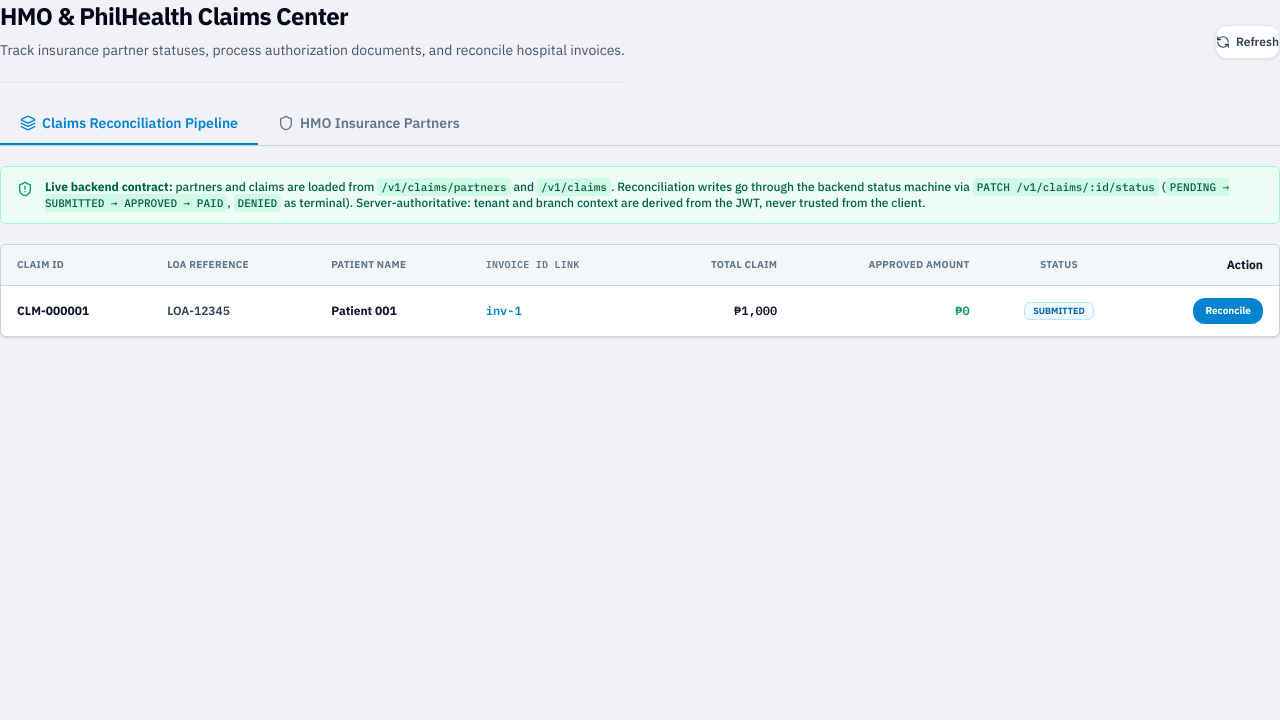
it: ClaimsDashboard — real /v1/claims/* contract (post-route-fix) › surfaces backend rejection errors inline (no window.alert on save failure)
Click the button "Reconcile".
click(1228, 311)  # box [1193,298,1263,324]
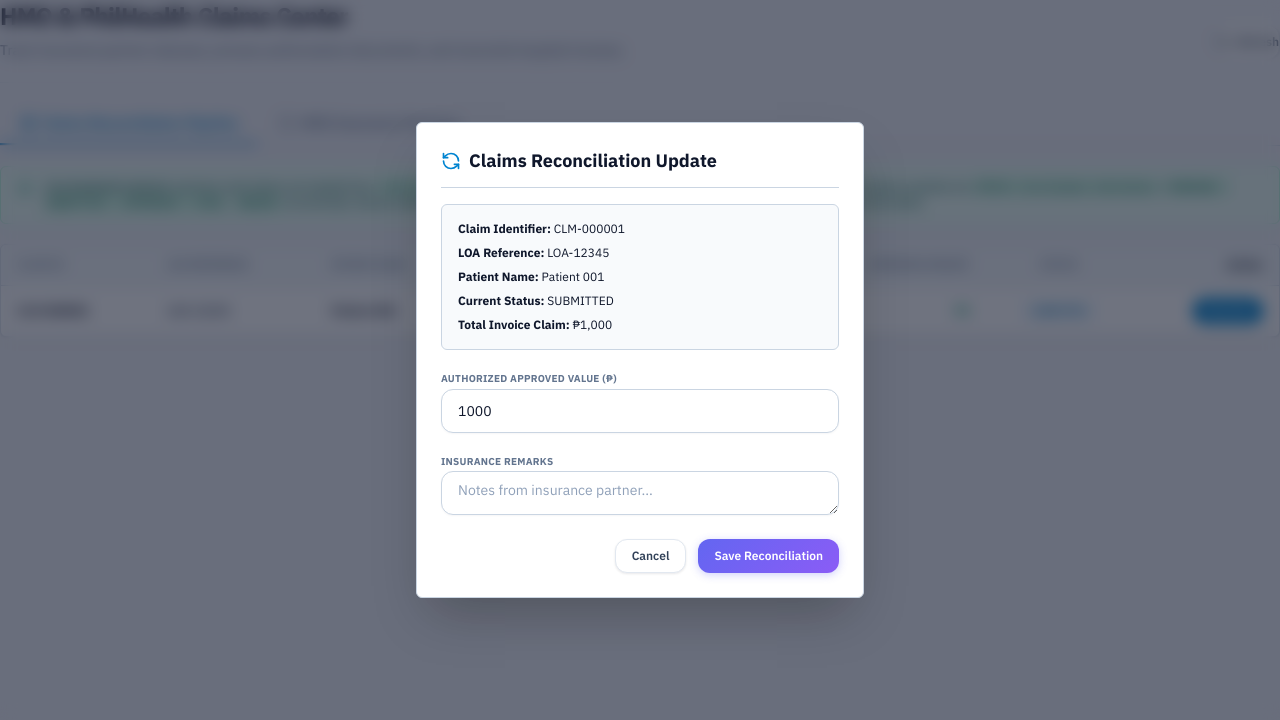
Click the button with test id "save-reconciliation".
click(769, 556)  # box [698,539,839,573]
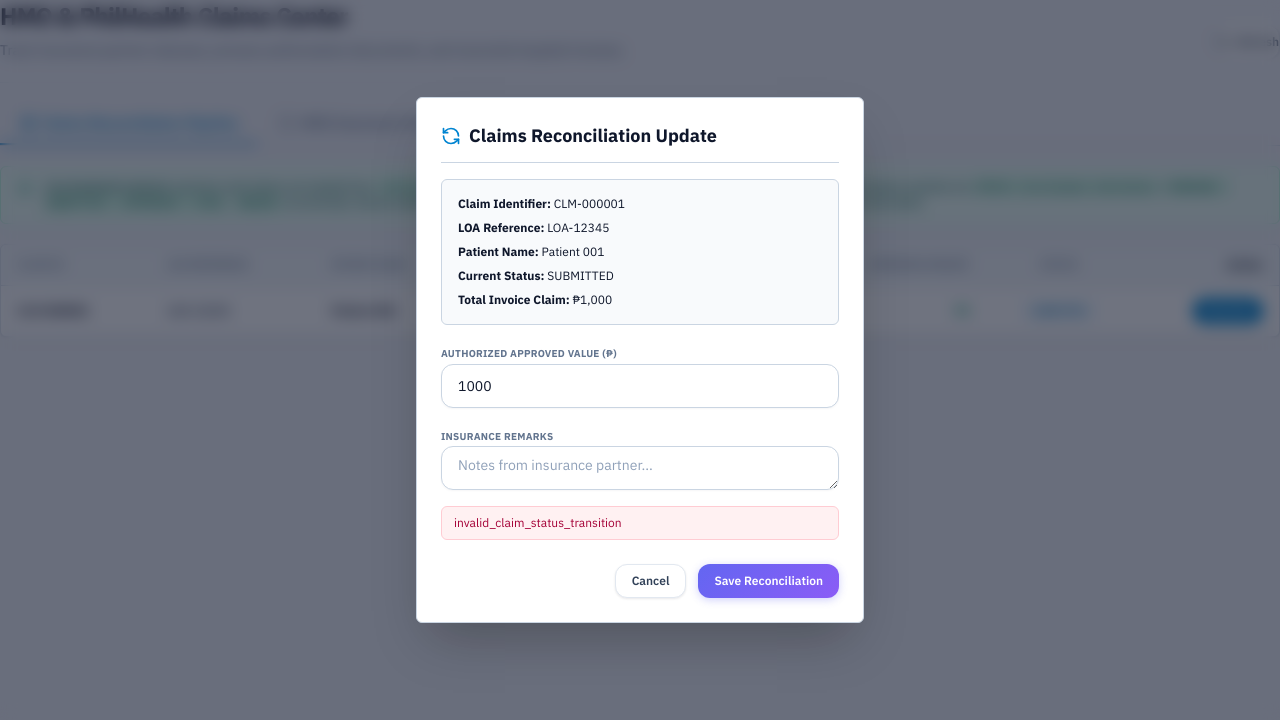
Check: the message with test id "update-error" reads "invalid_claim_status_transition", box [454,515,622,530]
